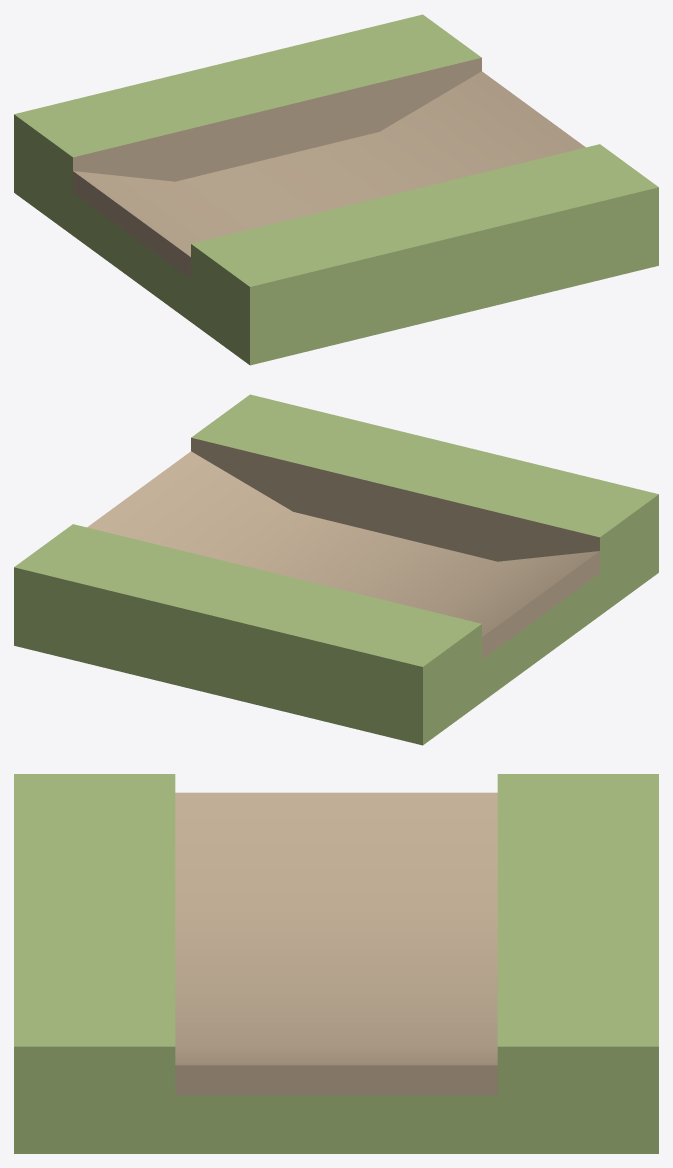
Rendered from SM_GRASS_04.fbx.
The picture shows the model from 3 angles, top to bottom: view 1: azimuth 30°, elevation 25°; view 2: azimuth 150°, elevation 25°; view 3: azimuth 270°, elevation 25°; orthographic projection. The views are drawn at different scales.
Visible parts, largest first — view 1: GRASS_04; view 2: GRASS_04; view 3: GRASS_04.
Part boxes in pixels (box(x1,y1,x2,y2)): GRASS_04: box(14, 14, 658, 365); GRASS_04: box(14, 394, 658, 745); GRASS_04: box(14, 774, 658, 1153).
Bounding box in the file's own units: 437 × 80.19 × 437.
